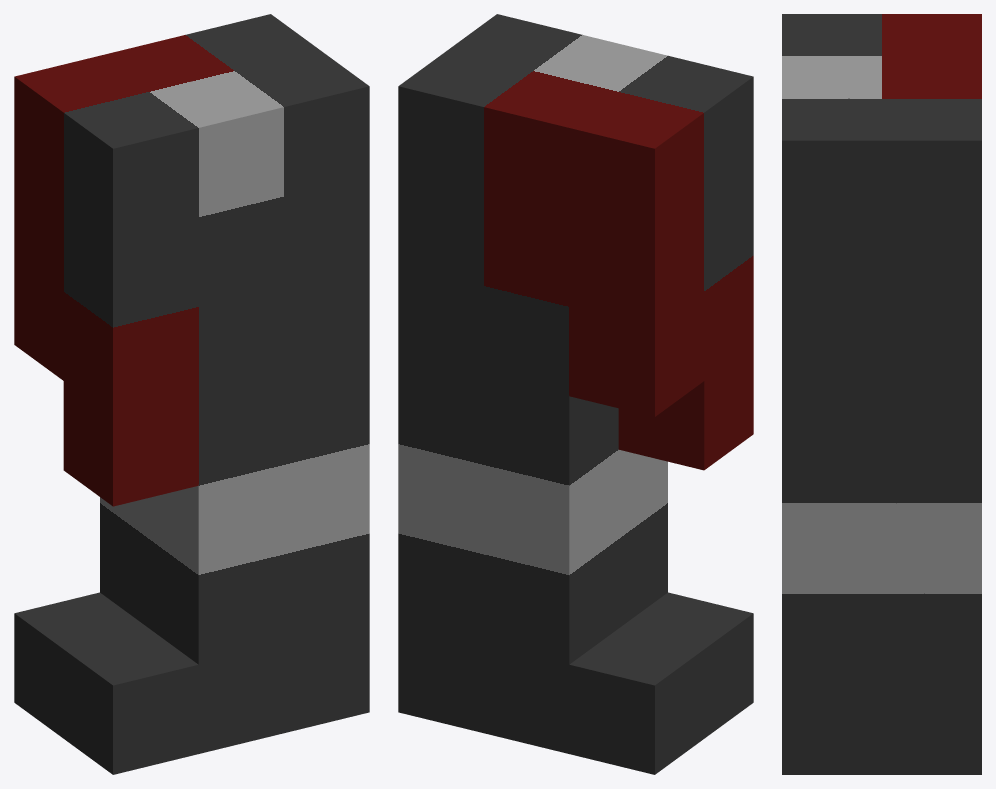
Rendered from BKRightLeg.dae.
The picture shows the model from 3 angles, left to right: view 1: azimuth 30°, elevation 25°; view 2: azimuth 150°, elevation 25°; view 3: azimuth 270°, elevation 25°; orthographic projection.
Parts seen in each view (by area): view 1: BKRightLeg; view 2: BKRightLeg; view 3: BKRightLeg.
Part boxes in pixels (left/top/right/bottom): BKRightLeg: left=14, top=14, right=369, bottom=774; BKRightLeg: left=398, top=14, right=753, bottom=774; BKRightLeg: left=782, top=14, right=981, bottom=774.
Bounding box in the file's own units: 0.3 × 0.2 × 0.7.
1 material, 1 textured.
